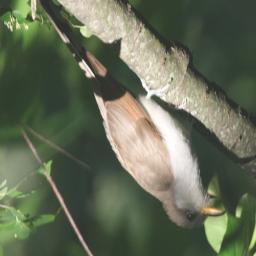Cuckoo: (28, 0, 227, 229)
